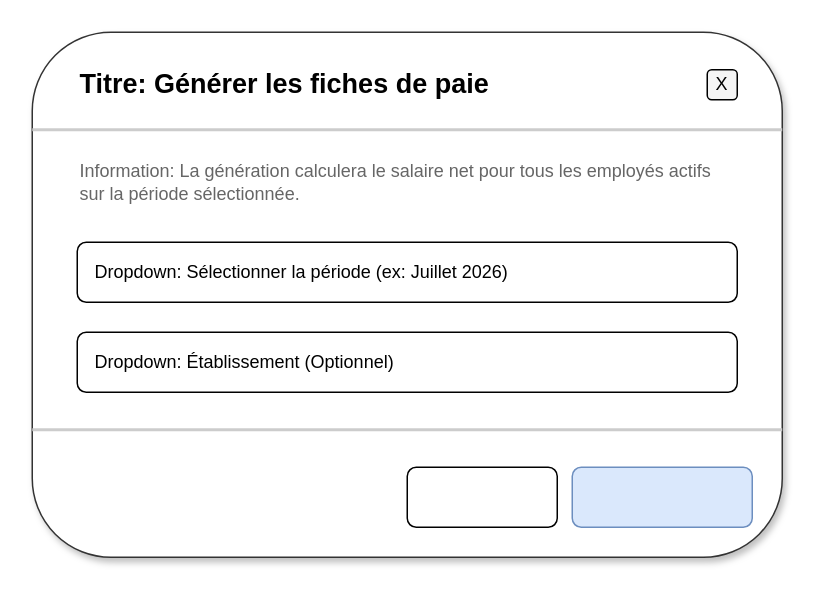
This 818x594 diagram has some shape labels left out. Here are the shapes that lost their labels. From the top down, the centre of each, then its label:
pixel 481 496: Bouton: Annuler
pixel 661 496: Bouton: Lancer la génération
